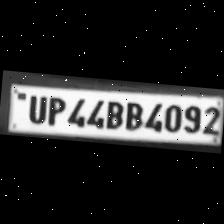0: (162, 101, 184, 134)
2: (198, 103, 223, 136)
4: (64, 95, 89, 129), (142, 100, 166, 134), (84, 96, 106, 130)
9: (180, 102, 204, 134)
B: (121, 98, 145, 132), (102, 97, 124, 130)
P: (43, 93, 66, 127)
U: (23, 92, 49, 125)
